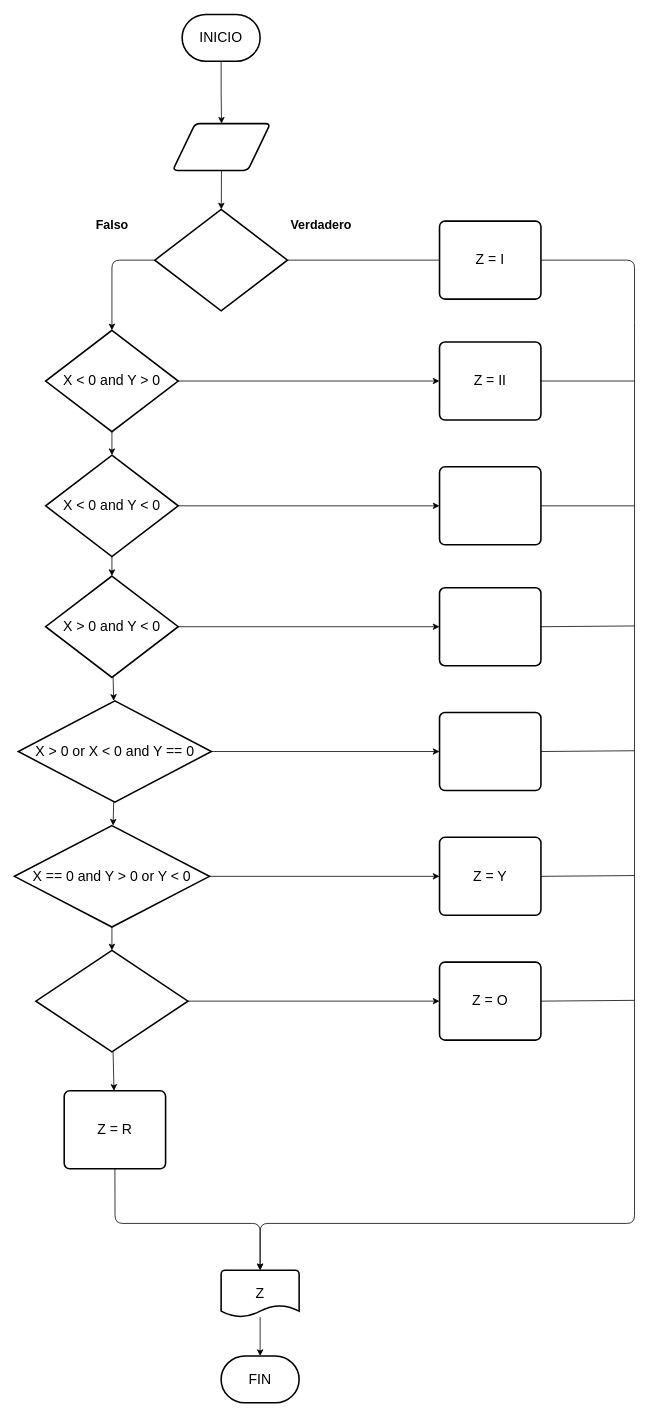
Image size: 654x1416. Some labels were removed from this diagram. Here are the shapes that lost their labels. From the top down, the box of each, then its label:
(172, 122, 271, 171): X, Y
(154, 208, 288, 311): X > 0 and Y > 0
(438, 466, 541, 545): Z = III
(438, 587, 541, 666): Z = IV
(438, 711, 541, 791): Z = X
(35, 949, 188, 1052): X == 0 and Y == 0
